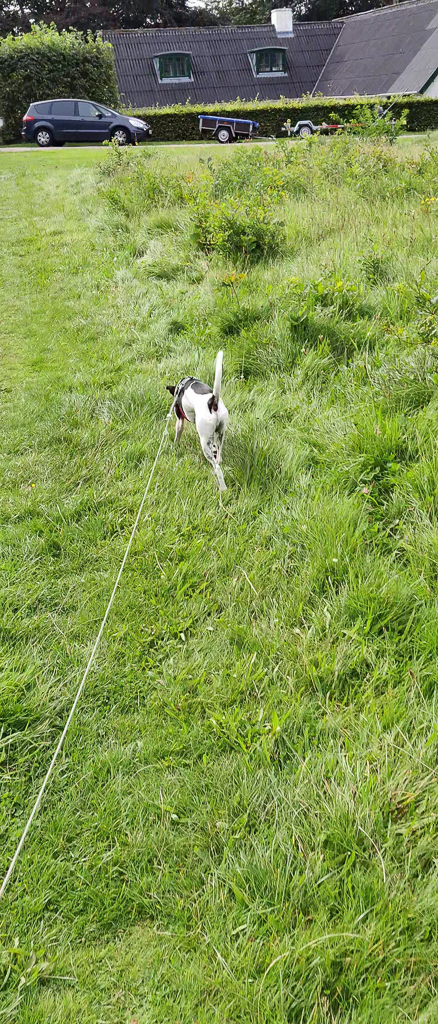Dog: (151, 340, 258, 518)
